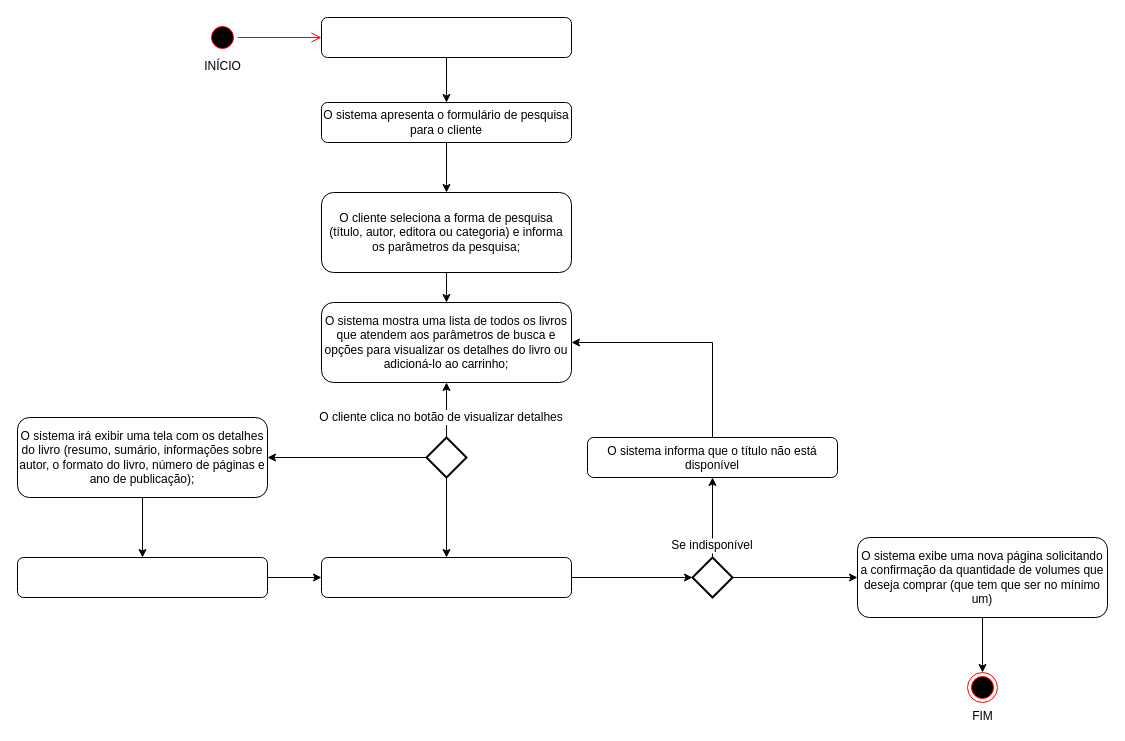
Image size: 1125x741. Some labels were removed from this diagram. Each missing label, with the box of its shape:
O cliente clica em adicionar ao carrinho: (425, 436, 467, 478)
O cliente clica no botão de pesquisa do site: (320, 16, 572, 58)
O cliente confere os detalhes do livro e clica em adicionar ao carrinho: (16, 556, 268, 598)
O sistema verifica se o título está disponível: (320, 556, 572, 598)
